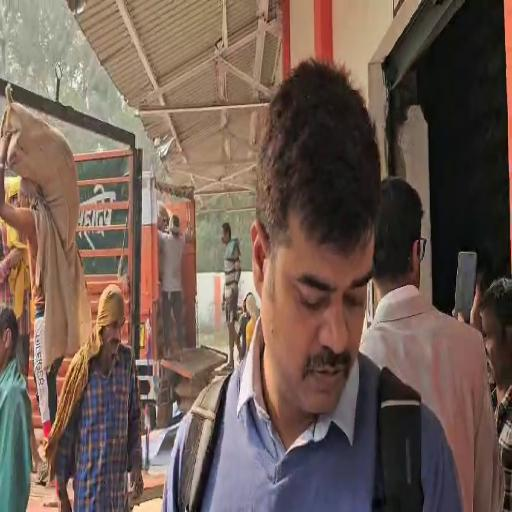bag: (0, 76, 83, 256)
